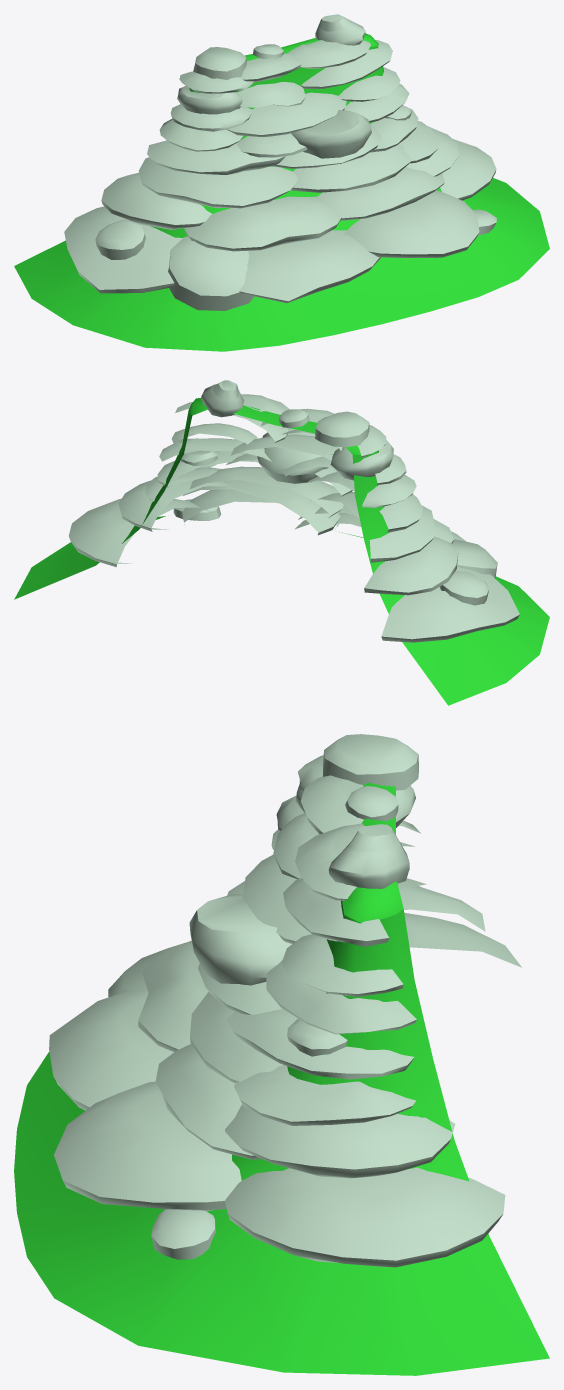
Rendered from Biome_1_Water_Edge_2.glb.
The picture shows the model from 3 angles, top to bottom: view 1: azimuth 30°, elevation 25°; view 2: azimuth 150°, elevation 25°; view 3: azimuth 270°, elevation 25°; orthographic projection. The views are drawn at different scales.
Visible parts, largest first — view 1: Biome_1_Water_Edge_2; view 2: Biome_1_Water_Edge_2; view 3: Biome_1_Water_Edge_2.
Part boxes in pixels (bbox=[...]): Biome_1_Water_Edge_2: bbox=[14, 14, 549, 351]; Biome_1_Water_Edge_2: bbox=[14, 380, 549, 705]; Biome_1_Water_Edge_2: bbox=[14, 734, 549, 1375].
Size of the model in its own units: 3.11 by 1.37 by 1.72.
